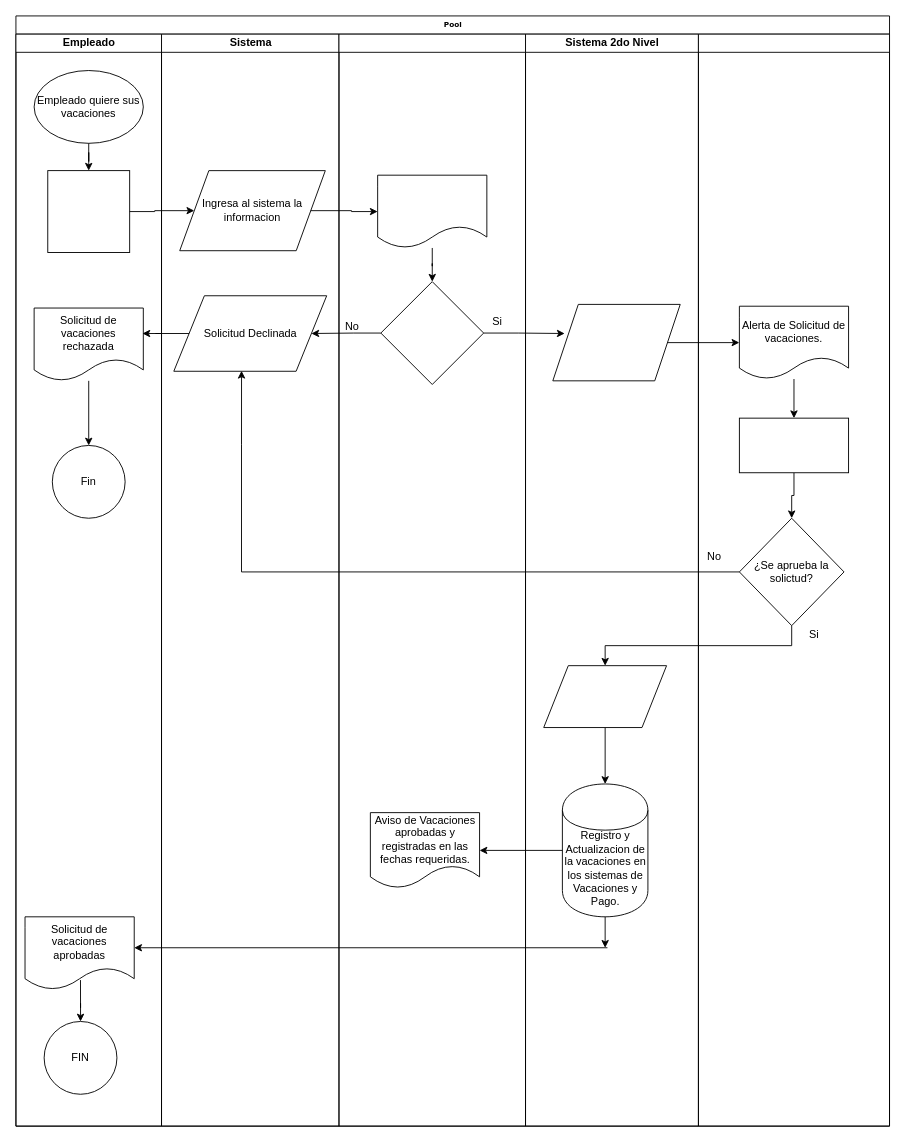
Image size: 905x1142. Some labels were removed from this diagram. Here are the shapes that lost their labels. From the top down, the box of each, then its label:
(47, 170, 130, 253): Llenado de la Solicitud de vacaciones.
(377, 174, 487, 248): Alerta de solicitud de vacaciones
(380, 281, 484, 384): Se aprueba la solicitud
(552, 303, 680, 381): Escalado de solicitud de vacaciones
(738, 417, 849, 473): Revisión de Solicitud de vacaciones.
(338, 33, 526, 1126): Supervisor
(698, 33, 890, 1126): RH
(543, 665, 667, 728): Solicitud aprobada
